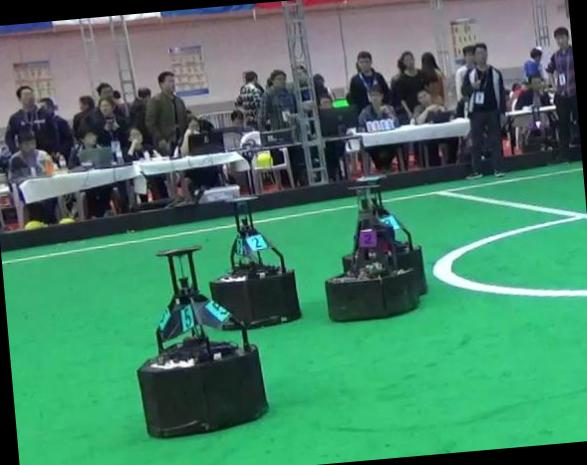person: (461, 43, 505, 177)
robot: (136, 245, 267, 437), (324, 180, 419, 319), (210, 196, 301, 327), (379, 213, 427, 294)
